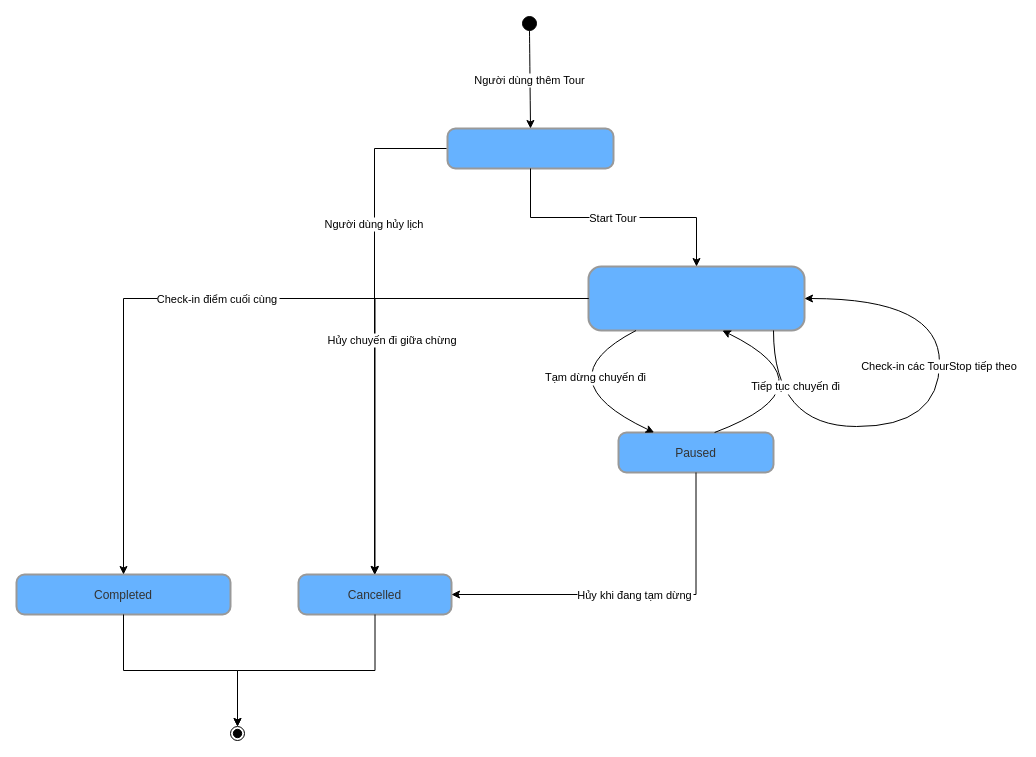
Some shapes in this 1036 by 757 pixel diagram are drawn without their labels. Each missing label, with the centre of its shape:
In Progress: (x=696, y=298)
Đã lên lịch: (x=530, y=148)
